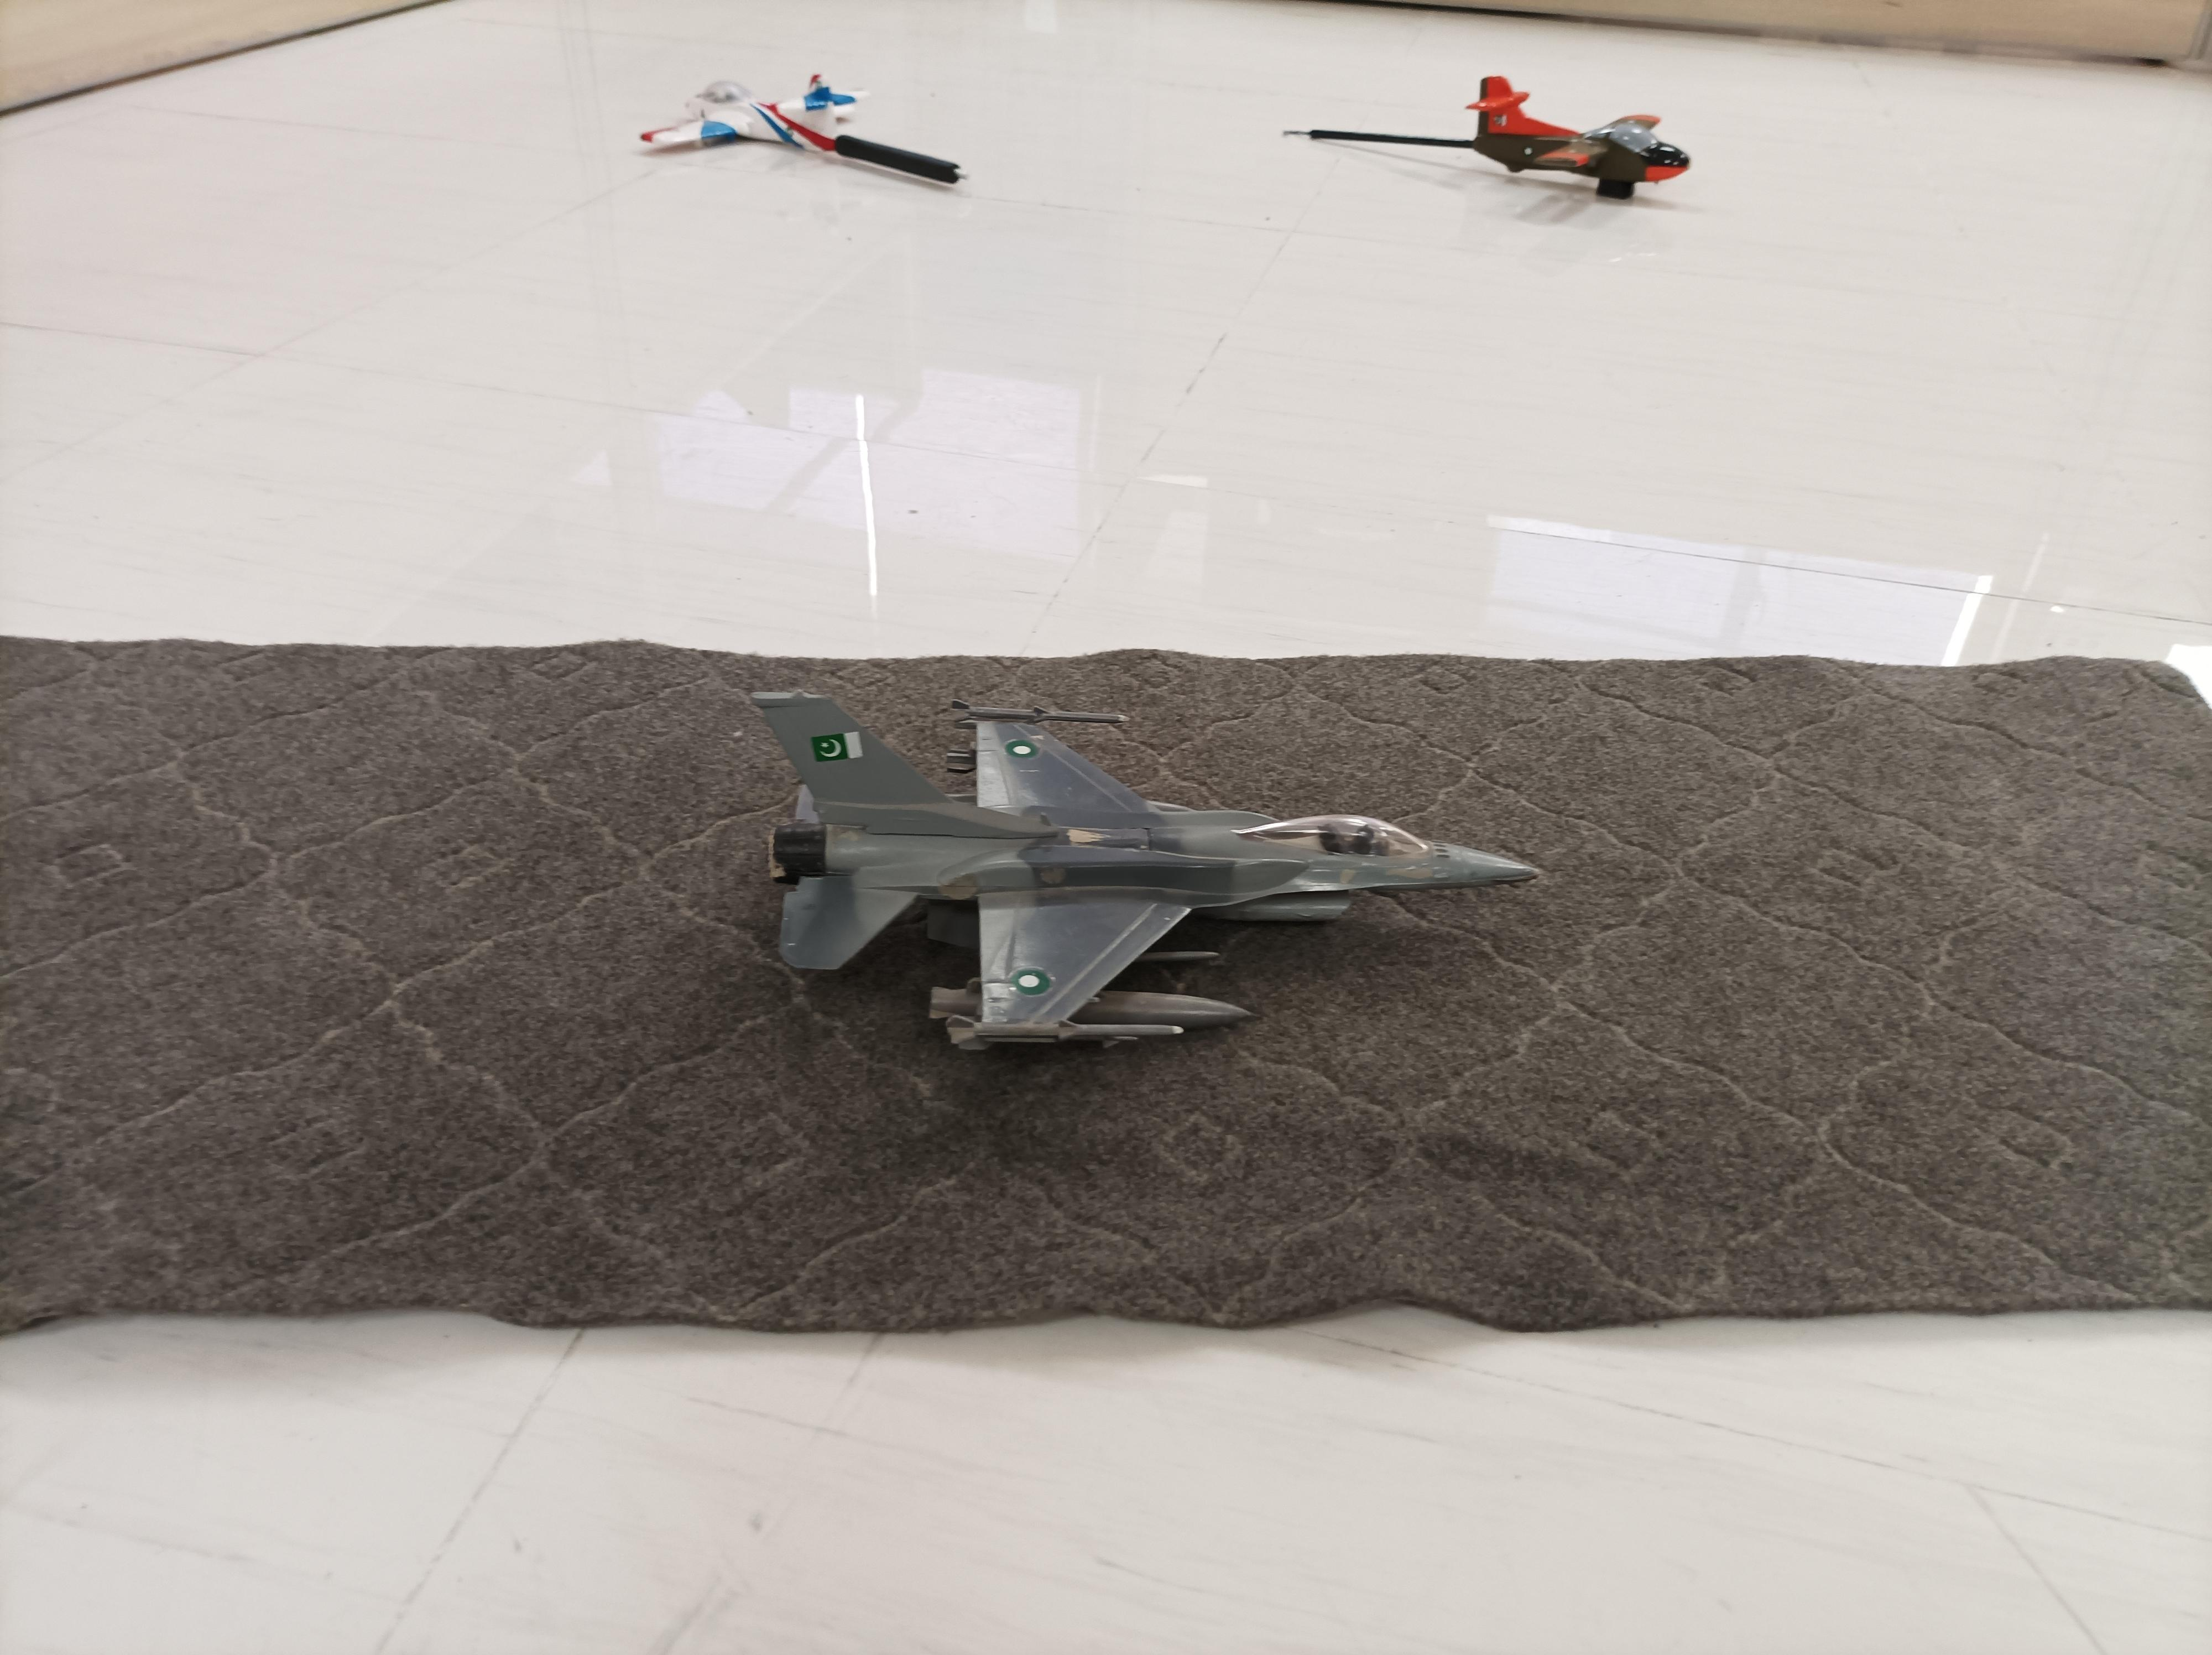Airplane: (726, 678, 1546, 1067), (1449, 50, 1706, 224), (632, 66, 860, 188)
